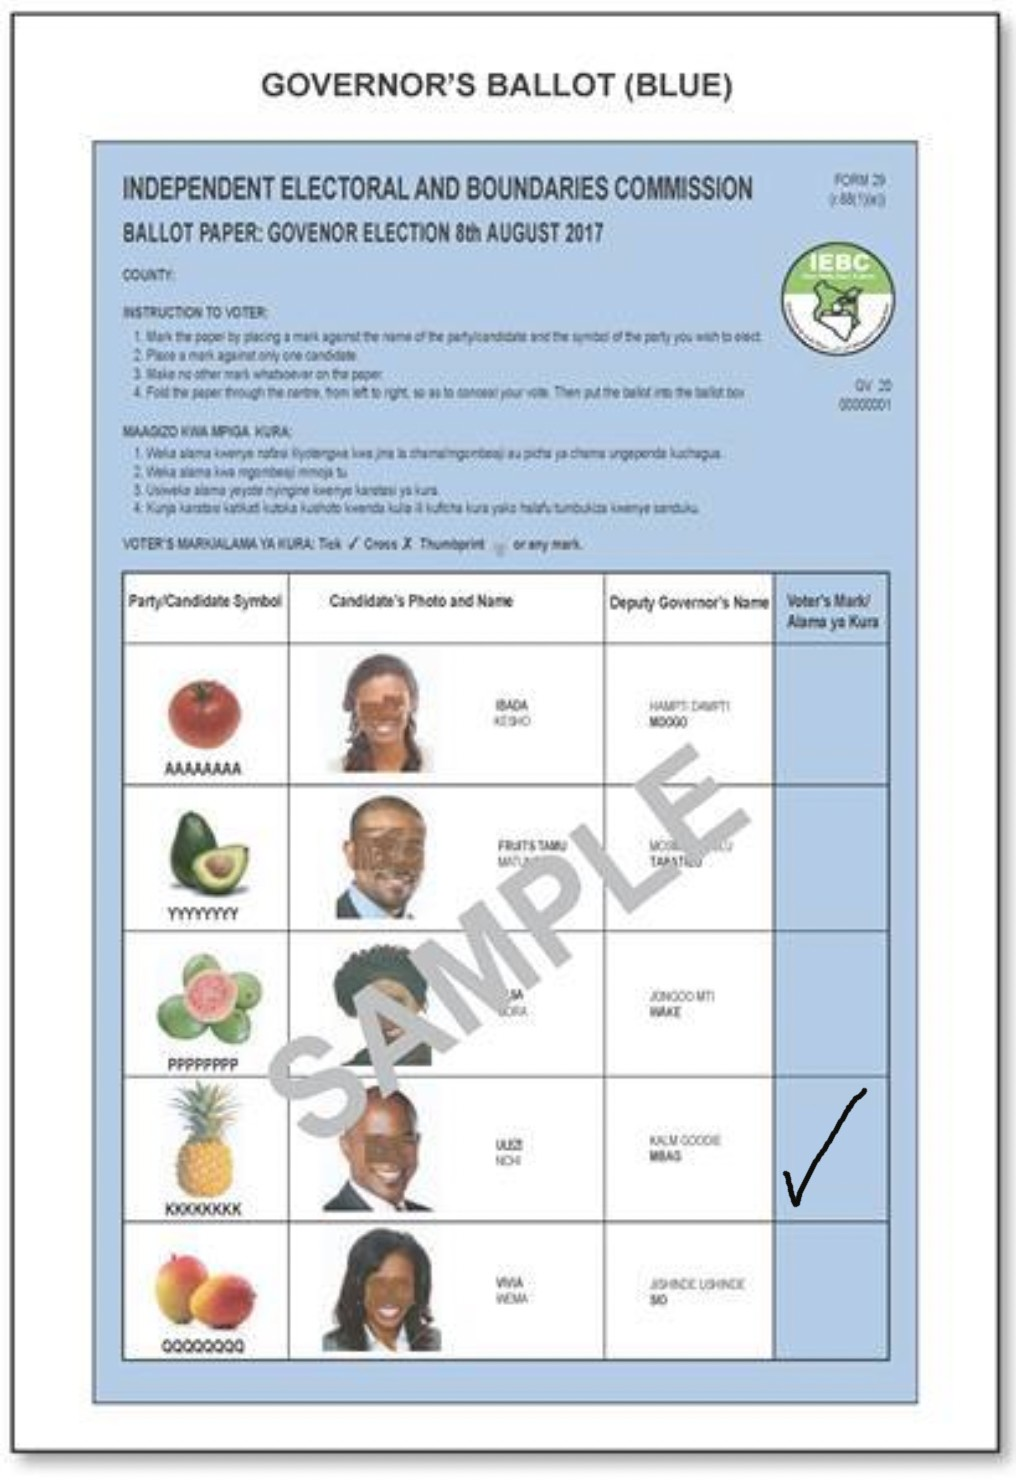mark: (777, 1085, 881, 1210)
